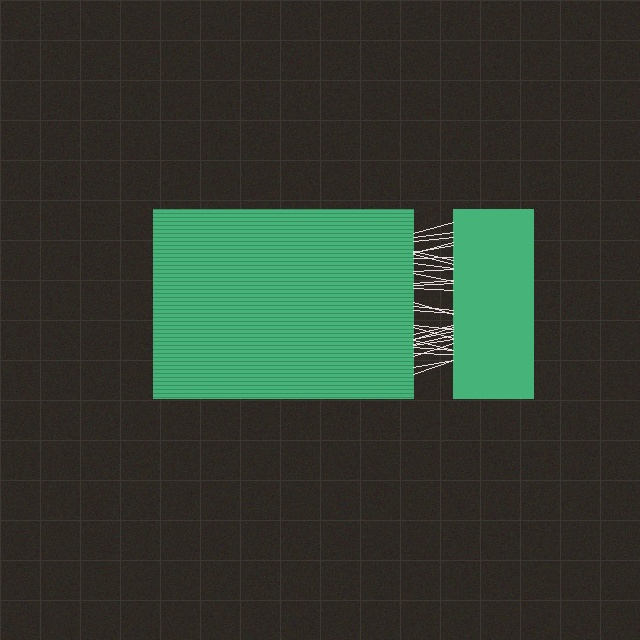stringing: (408, 209, 458, 398)
